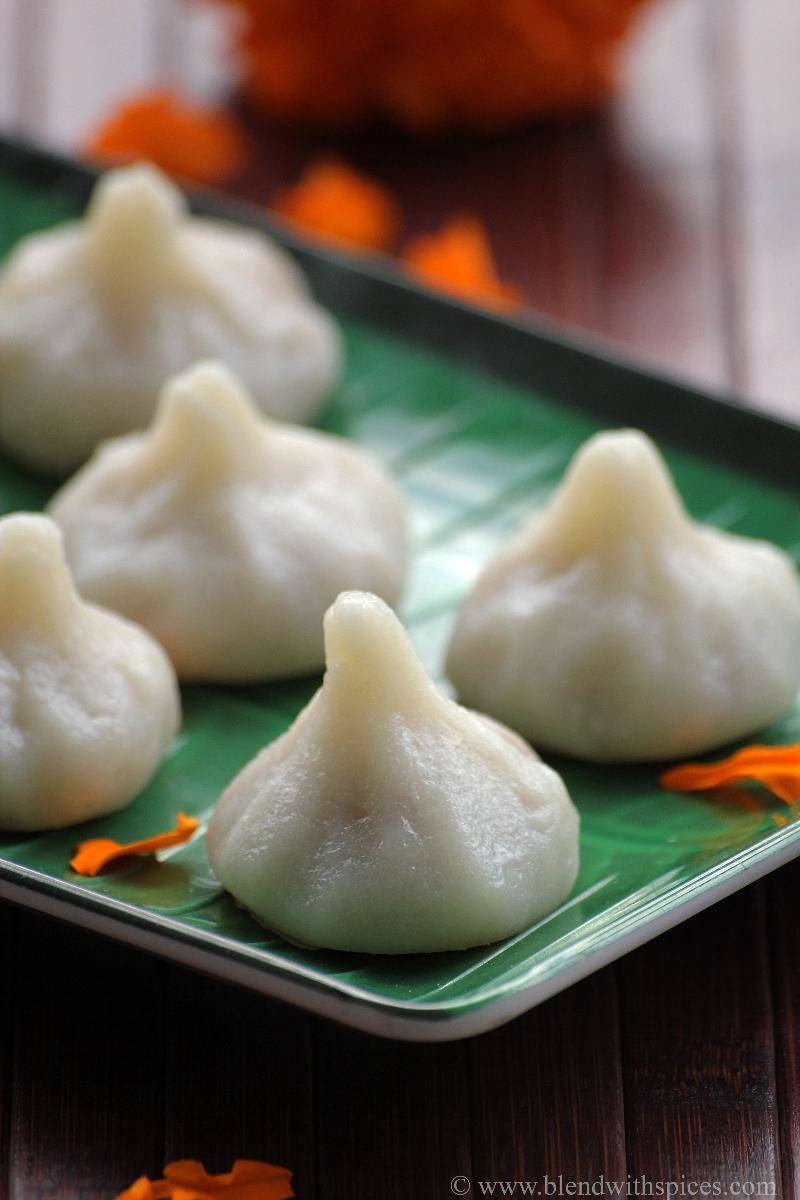modak: (228, 558, 589, 953), (66, 381, 457, 649), (13, 171, 365, 464), (498, 423, 800, 755), (8, 491, 180, 813)
